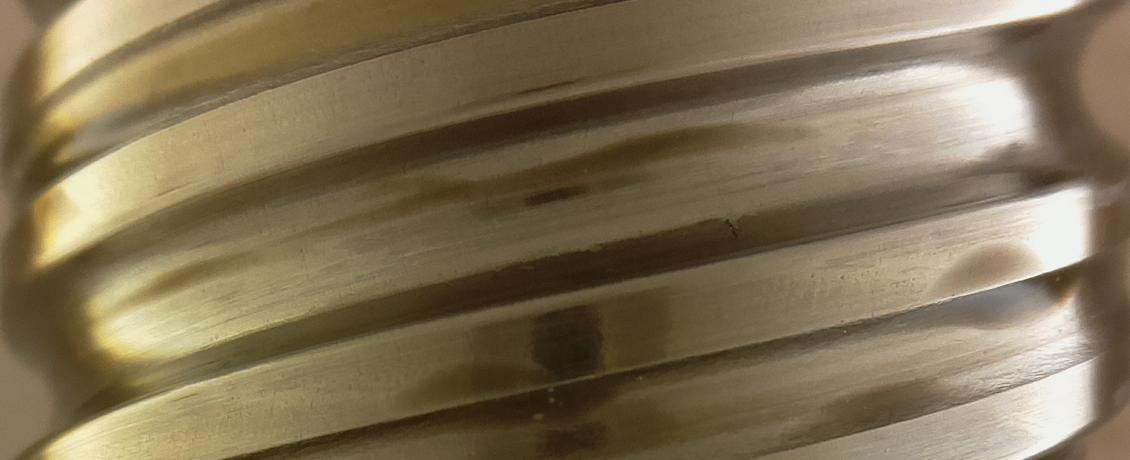pitting: (724, 218, 738, 238)
